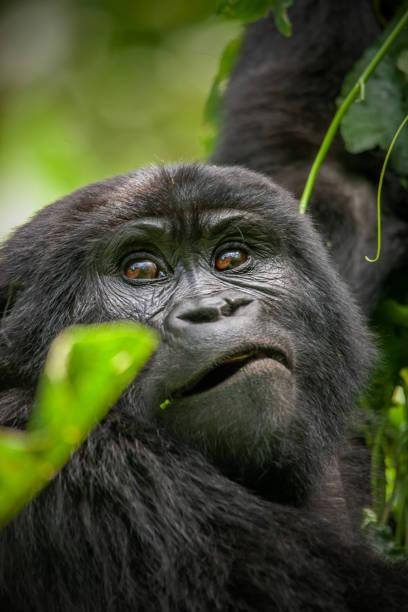goriile_montagne: (20, 149, 408, 612)
